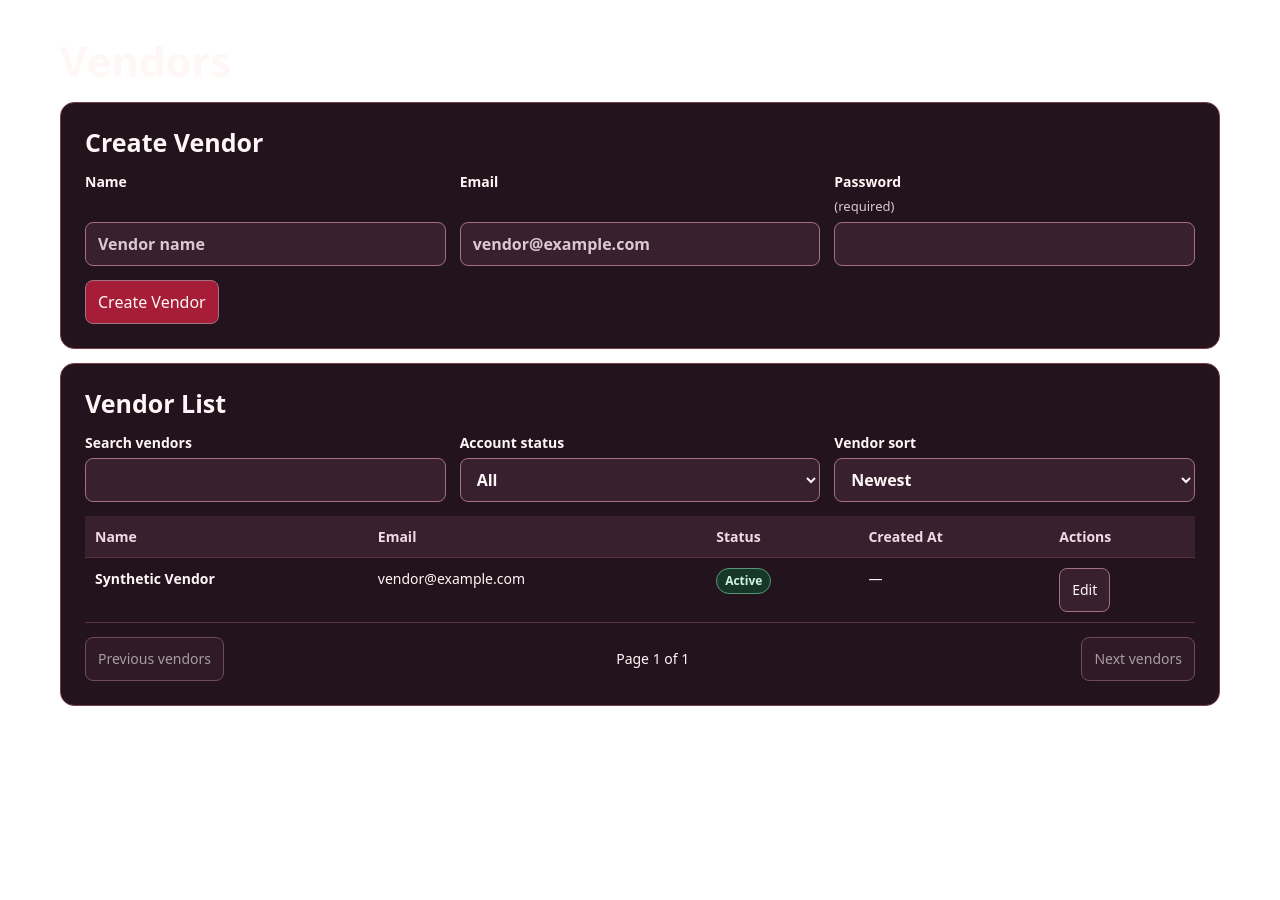
vendor update failure remains visible without reporting success
What coordinates should you click on to do the following:
click the button "Edit"
I would click on:
 (1085, 590)
Its box is [1059,568,1110,612].
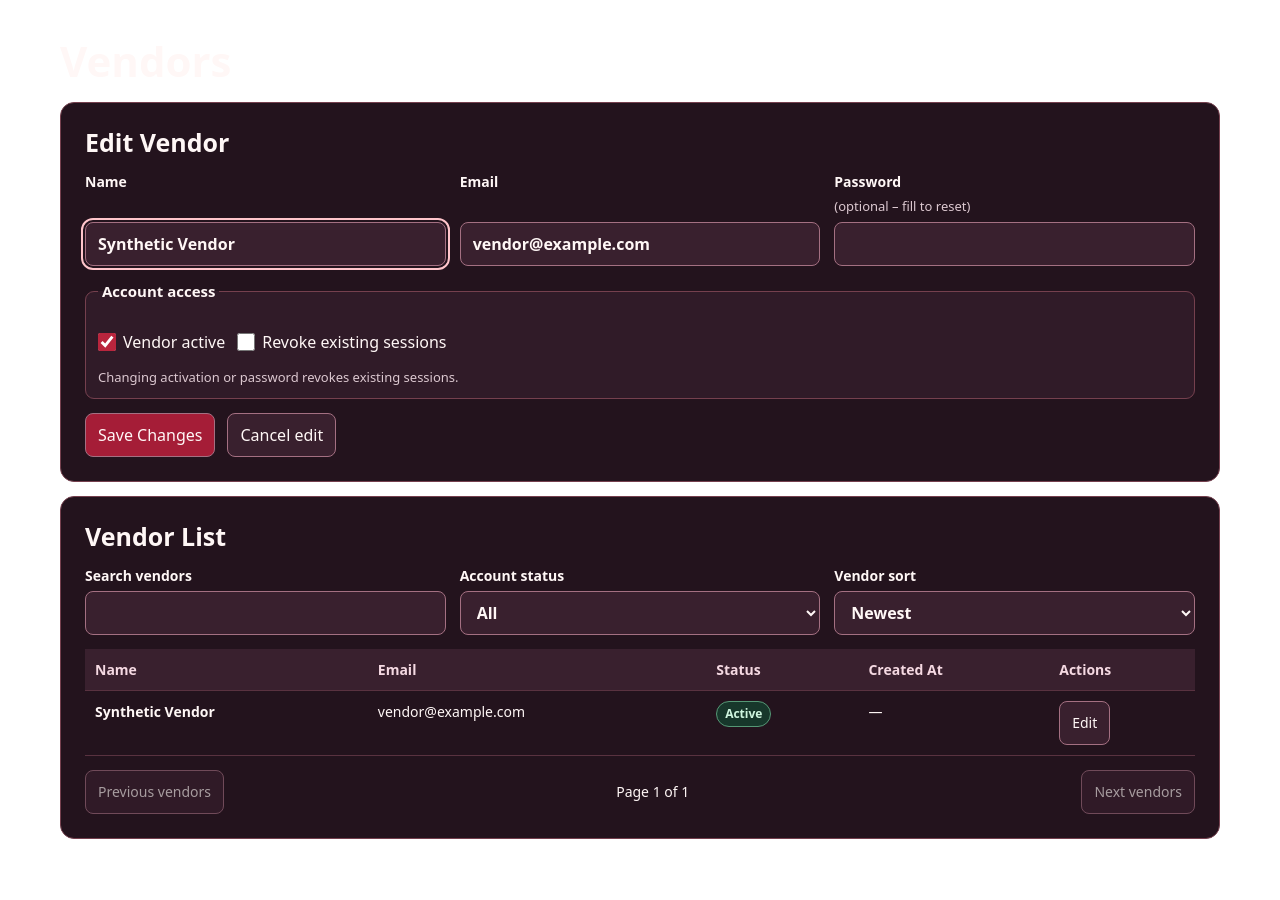
What coordinates should you click on to do the following:
click the button "Save Changes"
I would click on:
 (150, 435)
Its box is [85,413,216,457].
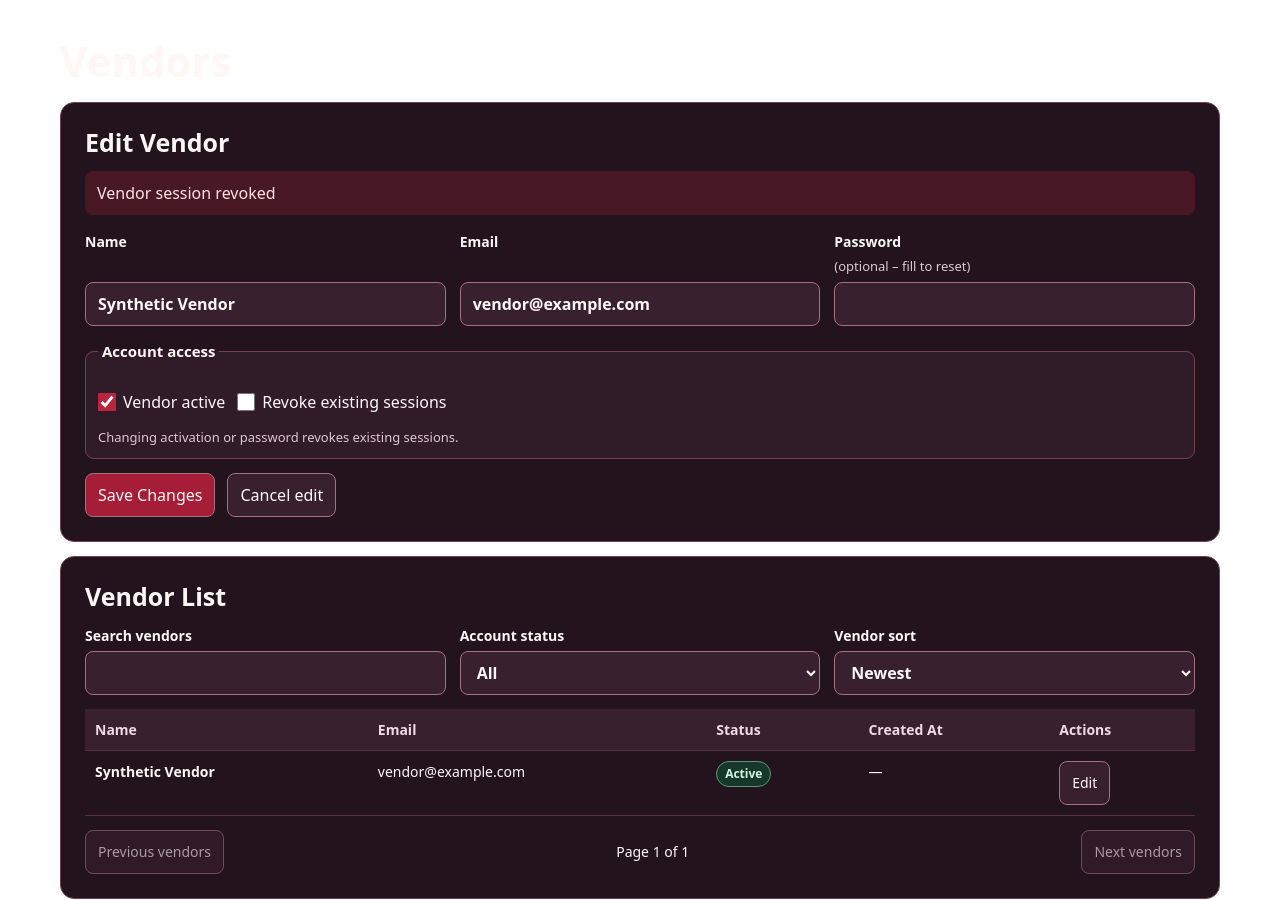
Check: the text "Vendor session revoked" is shown, box [85,171,1195,215]
